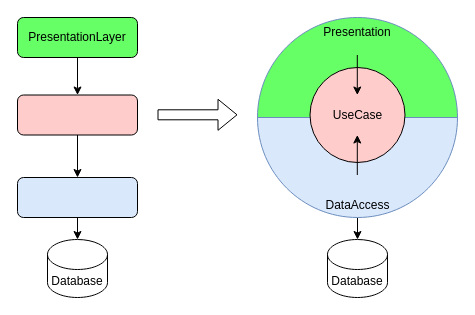
This 475x315 diagram has some shape labels left out. Here are the shapes that lost their labels. From the top down, the box of each, then its label:
(16, 94, 138, 135): BusinessLogicLayer
(16, 176, 138, 218): DataAccessLayer
